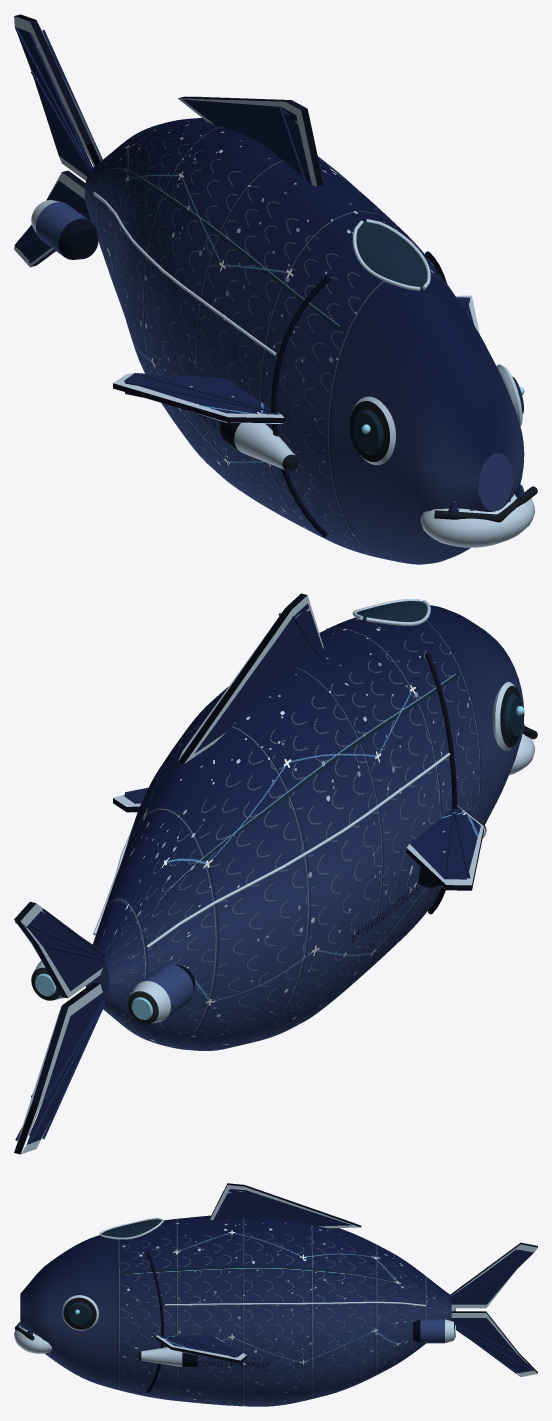
3 views of the same model, one above another, from view 1: azimuth 30°, elevation 25°; view 2: azimuth 150°, elevation 25°; view 3: azimuth 270°, elevation 25° (orthographic). The views are drawn at different scales.
Visible parts, largest first — view 1: piranha_hull; view 2: piranha_hull; view 3: piranha_hull.
Boxes of the visible parts, bbox=[...] form: piranha_hull: bbox=[14, 14, 537, 564]; piranha_hull: bbox=[14, 593, 537, 1154]; piranha_hull: bbox=[14, 1183, 537, 1406].
Size of the model in its own units: 6.42 by 6.94 by 15.
Materials: 1 (1 with a texture image).
